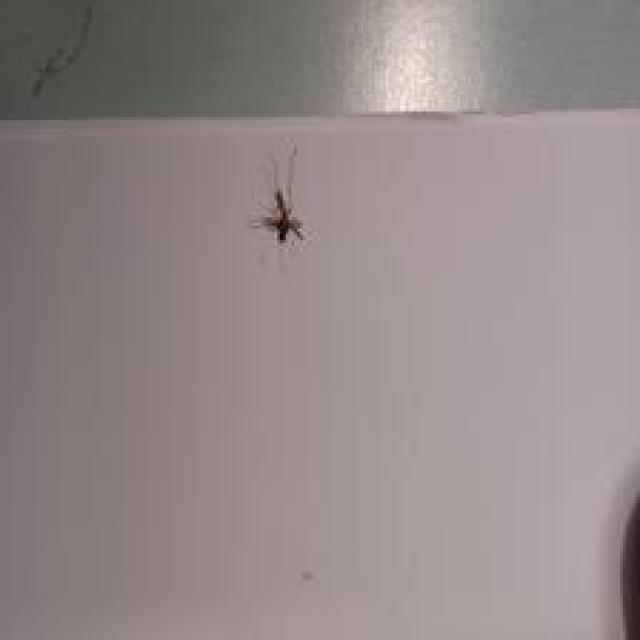Culex: (250, 143, 307, 246)
